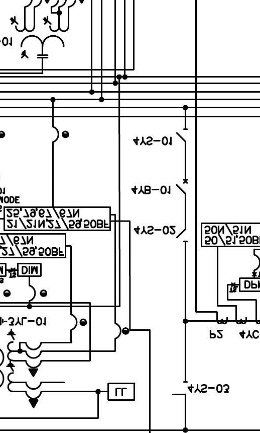115_breaker: (176, 179, 188, 194)
115_cvt_3p: (9, 16, 70, 59)
115_ds: (172, 381, 188, 396), (176, 128, 188, 142), (176, 229, 188, 242)
DIM: (17, 263, 42, 277)
LL: (107, 383, 135, 401)
